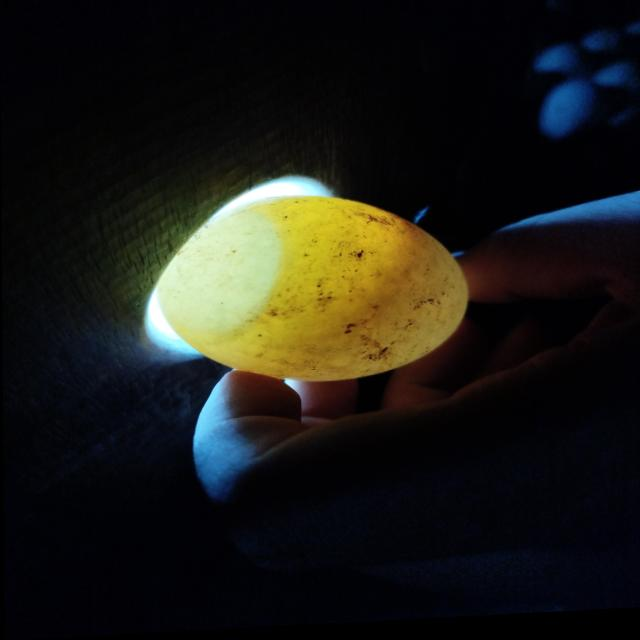Camara de Ar: (155, 207, 282, 335)
